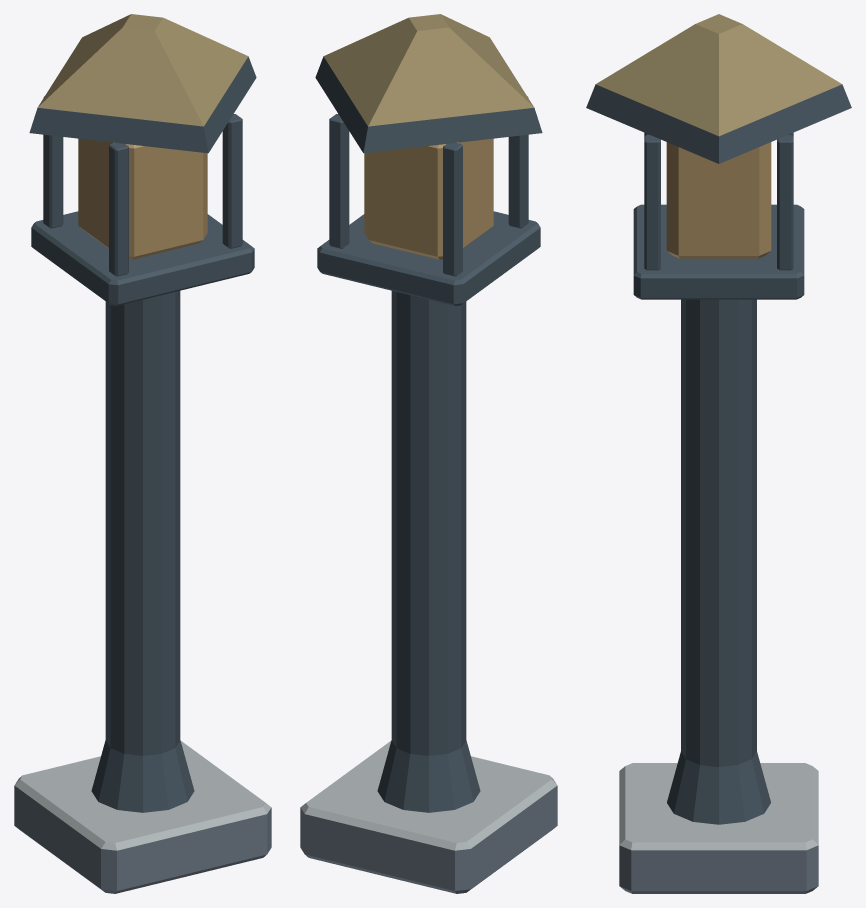
File: lantern-post.glb
The picture shows the model from 3 angles, left to right: view 1: azimuth 30°, elevation 25°; view 2: azimuth 150°, elevation 25°; view 3: azimuth 270°, elevation 25°; orthographic projection.
Parts seen in each view (by area): view 1: lantern-post__body; view 2: lantern-post__body; view 3: lantern-post__body.
Part boxes in pixels (x1,y1,x2,y2): lantern-post__body: [14, 14, 271, 893]; lantern-post__body: [300, 14, 557, 893]; lantern-post__body: [586, 14, 851, 893].
Size of the model in its own units: 0.56 by 1.93 by 0.56.
